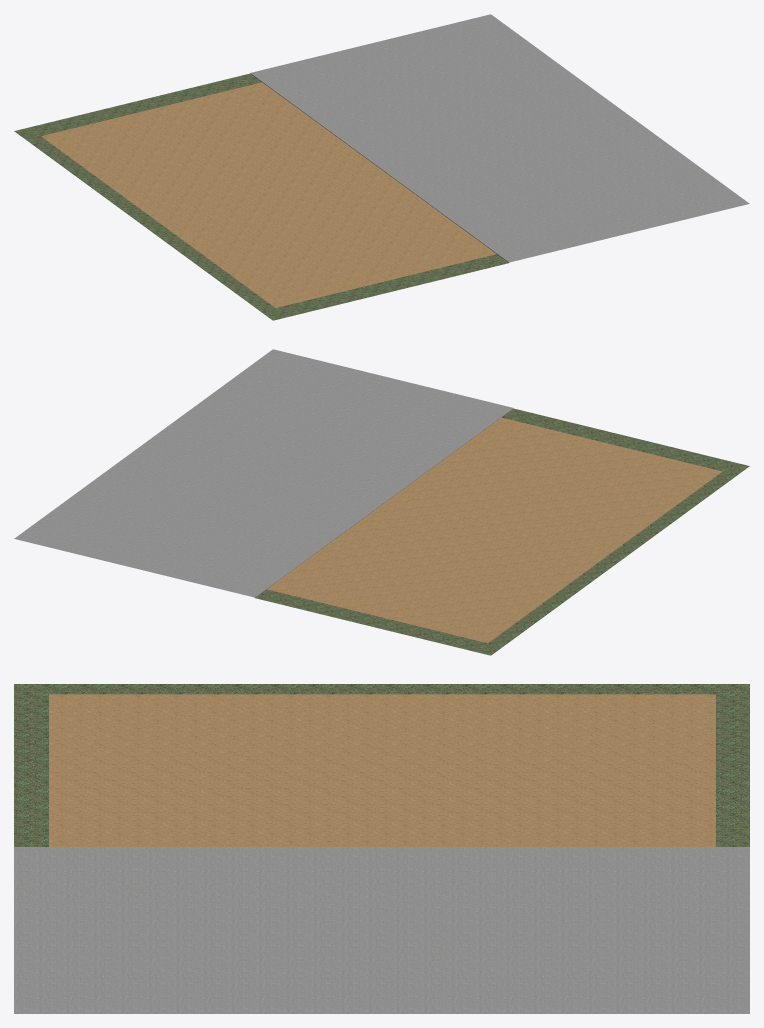
Rendered from st_010_field.fbx.
3 views of the same model, one above another, from view 1: azimuth 30°, elevation 25°; view 2: azimuth 150°, elevation 25°; view 3: azimuth 270°, elevation 25° (orthographic). The views are drawn at different scales.
Visible parts, largest first — view 1: st_010_Field; view 2: st_010_Field; view 3: st_010_Field.
Boxes of the visible parts, x1,y1,x2,y2 form: st_010_Field: [14, 14, 749, 320]; st_010_Field: [14, 349, 749, 655]; st_010_Field: [14, 684, 749, 1013].
Size of the model in its own units: 255 by 0.275 by 240.
